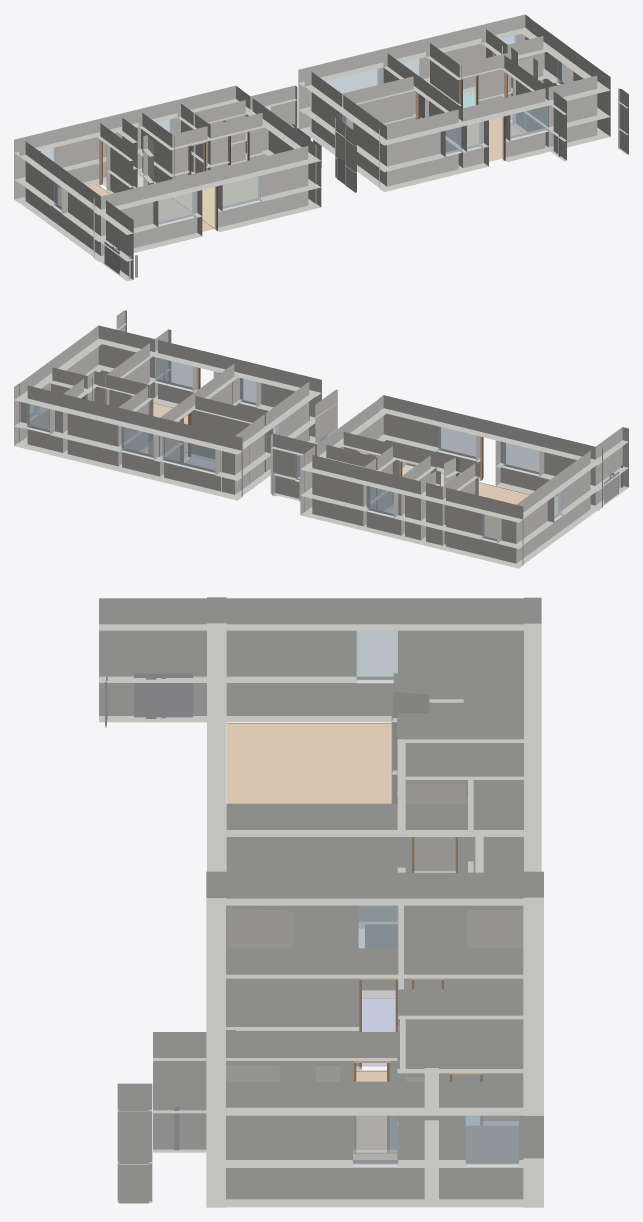
3 views of the same model, one above another, from view 1: azimuth 30°, elevation 25°; view 2: azimuth 150°, elevation 25°; view 3: azimuth 270°, elevation 25° (orthographic). The views are drawn at different scales.
Parts seen in each view (by area): view 1: walls, floor_2_Kitchen, railings, window_10, window_17, floor_7_Living_Room, window_6, floor_0_Living_Room, window_12, window_16; view 2: walls, window_12, floor_0_Living_Room, window_10, window_17, window_6, window_5, railings, window_11, window_13, window_16, window_7; view 3: walls, floor_0_Living_Room, railings, window_2, furniture_1_closet, furniture_4_closet, window_1, furniture_0_closet, window_9, furniture_19_sauna_bench, window_8, floor_7_Living_Room (+2 smaller).
Part boxes in pixels (<box>): walls: <box>14,14,628,281</box>; floor_2_Kitchen: <box>172,177,257,227</box>; railings: <box>104,94,560,279</box>; window_10: <box>222,176,260,208</box>; window_17: <box>510,106,548,138</box>; floor_7_Living_Room: <box>467,117,523,161</box>; window_6: <box>158,192,194,224</box>; floor_0_Living_Room: <box>58,184,214,231</box>; window_12: <box>326,68,379,93</box>; window_16: <box>445,127,461,154</box>; walls: <box>14,310,628,568</box>; window_12: <box>162,436,215,472</box>; floor_0_Living_Room: <box>478,482,557,538</box>; window_10: <box>438,426,475,459</box>; window_17: <box>155,357,192,389</box>; window_6: <box>503,442,539,474</box>; window_5: <box>121,426,153,457</box>; railings: <box>148,371,622,503</box>; window_11: <box>367,486,393,515</box>; window_13: <box>27,403,49,432</box>; window_16: <box>240,378,256,405</box>; window_7: <box>482,514,496,541</box>; walls: <box>99,597,543,1207</box>; floor_0_Living_Room: <box>227,723,391,803</box>; railings: <box>105,673,397,1150</box>; window_2: <box>465,1111,518,1164</box>; furniture_1_closet: <box>406,784,465,872</box>; furniture_4_closet: <box>226,909,292,948</box>; window_1: <box>353,1111,398,1164</box>; furniture_0_closet: <box>467,909,523,948</box>; window_9: <box>356,627,397,680</box>; furniture_19_sauna_bench: <box>436,1126,523,1195</box>; window_8: <box>358,905,397,948</box>; floor_7_Living_Room: <box>356,1070,386,1149</box>.
Bounding box in the file's own units: 24.21 × 2.72 × 9.24.
